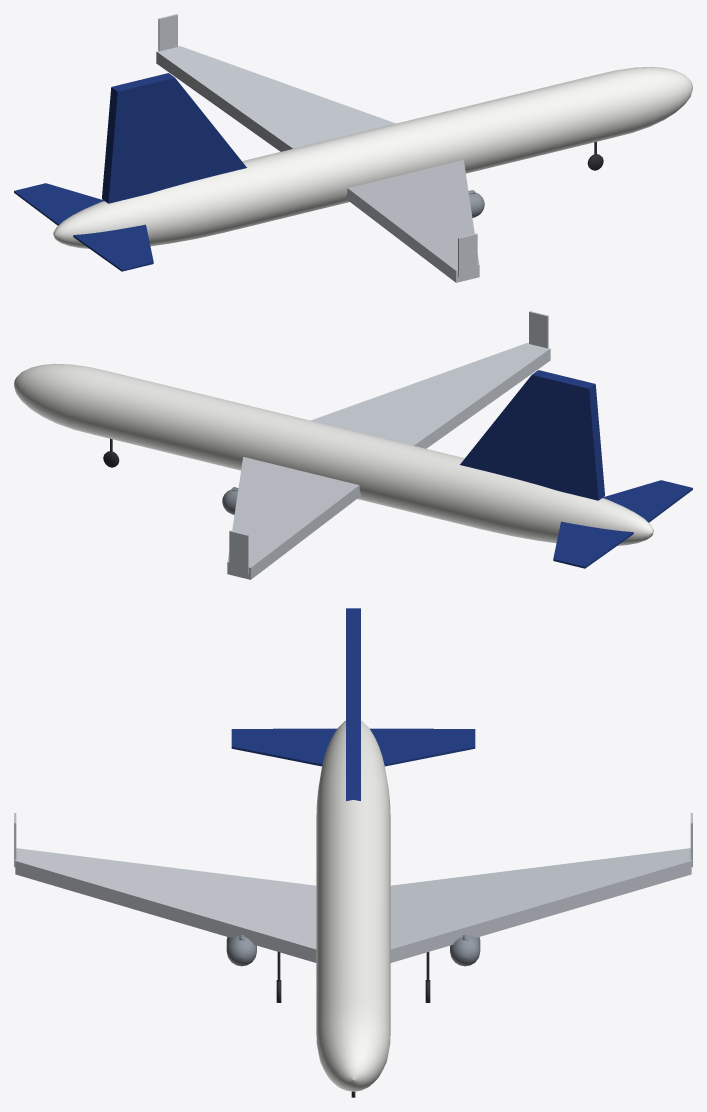
3 renders of one model, top to bottom at view 1: azimuth 30°, elevation 25°; view 2: azimuth 150°, elevation 25°; view 3: azimuth 270°, elevation 25°, orthographic. The views are drawn at different scales.
Parts seen in each view (by area): view 1: fuselage, wings, tail; view 2: fuselage, wings, tail; view 3: wings, fuselage, tail, engines.
Part boxes in pixels (x1=…): fuselage: x1=53, y1=66, x2=692, y2=248; wings: x1=156, y1=14, x2=479, y2=282; tail: x1=14, y1=73, x2=246, y2=271; fuselage: x1=14, y1=363, x2=653, y2=545; wings: x1=227, y1=311, x2=550, y2=579; tail: x1=460, y1=370, x2=692, y2=568; wings: x1=14, y1=813, x2=692, y2=962; fuselage: x1=316, y1=720, x2=390, y2=1091; tail: x1=231, y1=608, x2=475, y2=800; engines: x1=226, y1=934, x2=480, y2=966.
Size of the model in its own units: 42.1 by 12.49 by 34.42.
